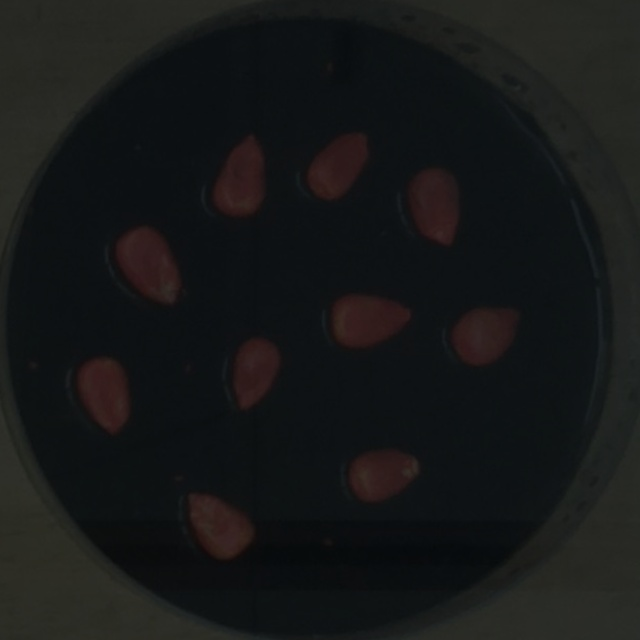Zea mays: (106, 216, 189, 313), (178, 483, 262, 567), (322, 285, 421, 355), (204, 125, 272, 224), (298, 123, 376, 207), (68, 349, 138, 441), (443, 299, 526, 374), (400, 159, 466, 252), (340, 441, 426, 509), (225, 330, 287, 417)
